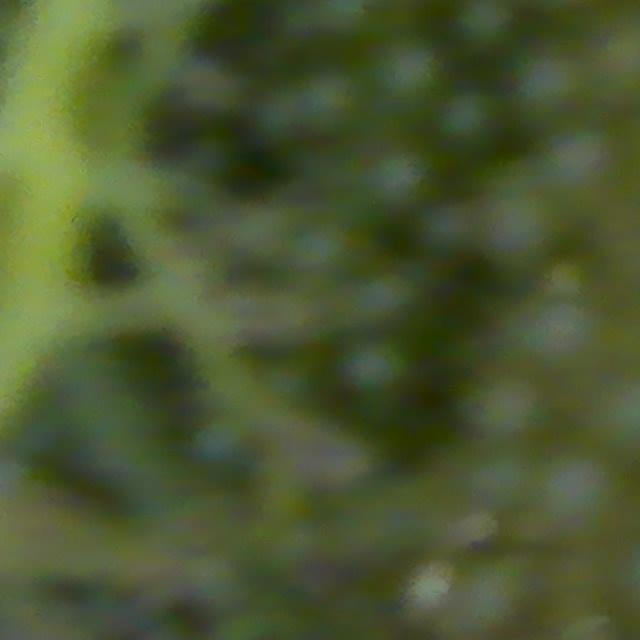SeaGrape: (534, 439, 634, 539), (503, 289, 602, 381), (534, 119, 626, 211), (475, 182, 567, 270), (454, 550, 540, 635), (577, 10, 640, 120), (362, 32, 440, 113), (511, 43, 590, 120), (459, 442, 540, 516), (344, 264, 423, 332), (291, 66, 364, 139), (460, 373, 537, 441), (437, 90, 510, 161), (287, 215, 360, 282), (341, 333, 413, 398), (415, 195, 484, 260), (369, 143, 431, 214), (453, 0, 518, 55)
